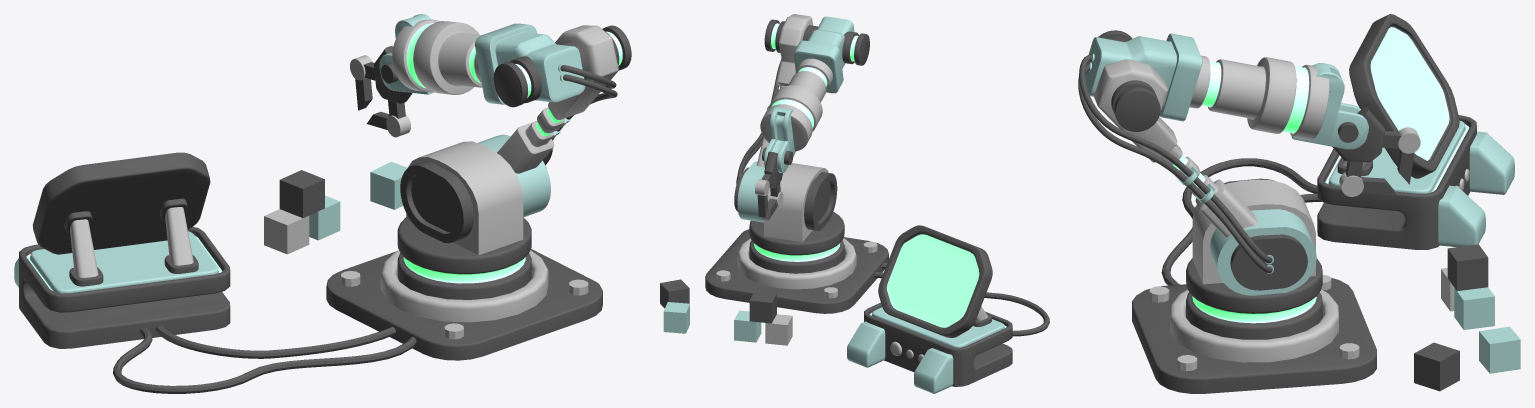
The model's file is AutomaticienRoboticien.fbx.
The picture shows the model from 3 angles, left to right: view 1: azimuth 30°, elevation 25°; view 2: azimuth 150°, elevation 25°; view 3: azimuth 270°, elevation 25°; orthographic projection. The views are drawn at different scales.
Visible parts, largest first — view 1: Cube.004, Cube.003, Cube.002, Cube.001; view 2: Cube.004, Cube.003, Cube.002, Cube.001; view 3: Cube.004, Cube.003, Cube.002, Cube.001.
Part boxes in pixels (<box>): Cube.004: <box>14,134,602,393</box>; Cube.003: <box>379,14,585,104</box>; Cube.002: <box>493,25,631,173</box>; Cube.001: <box>350,46,412,137</box>; Cube.004: <box>660,161,1049,393</box>; Cube.003: <box>760,16,854,173</box>; Cube.002: <box>736,14,869,184</box>; Cube.001: <box>755,151,783,220</box>; Cube.004: <box>1132,14,1520,393</box>; Cube.003: <box>1085,33,1368,149</box>; Cube.002: <box>1078,30,1273,273</box>; Cube.001: <box>1332,107,1420,196</box>.
Size of the model in its own units: 142 by 88.36 by 115.
